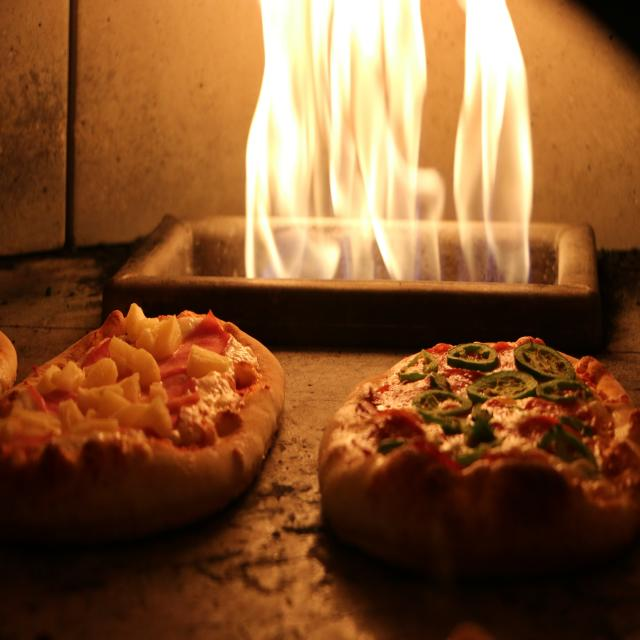fire: (244, 0, 549, 268)
